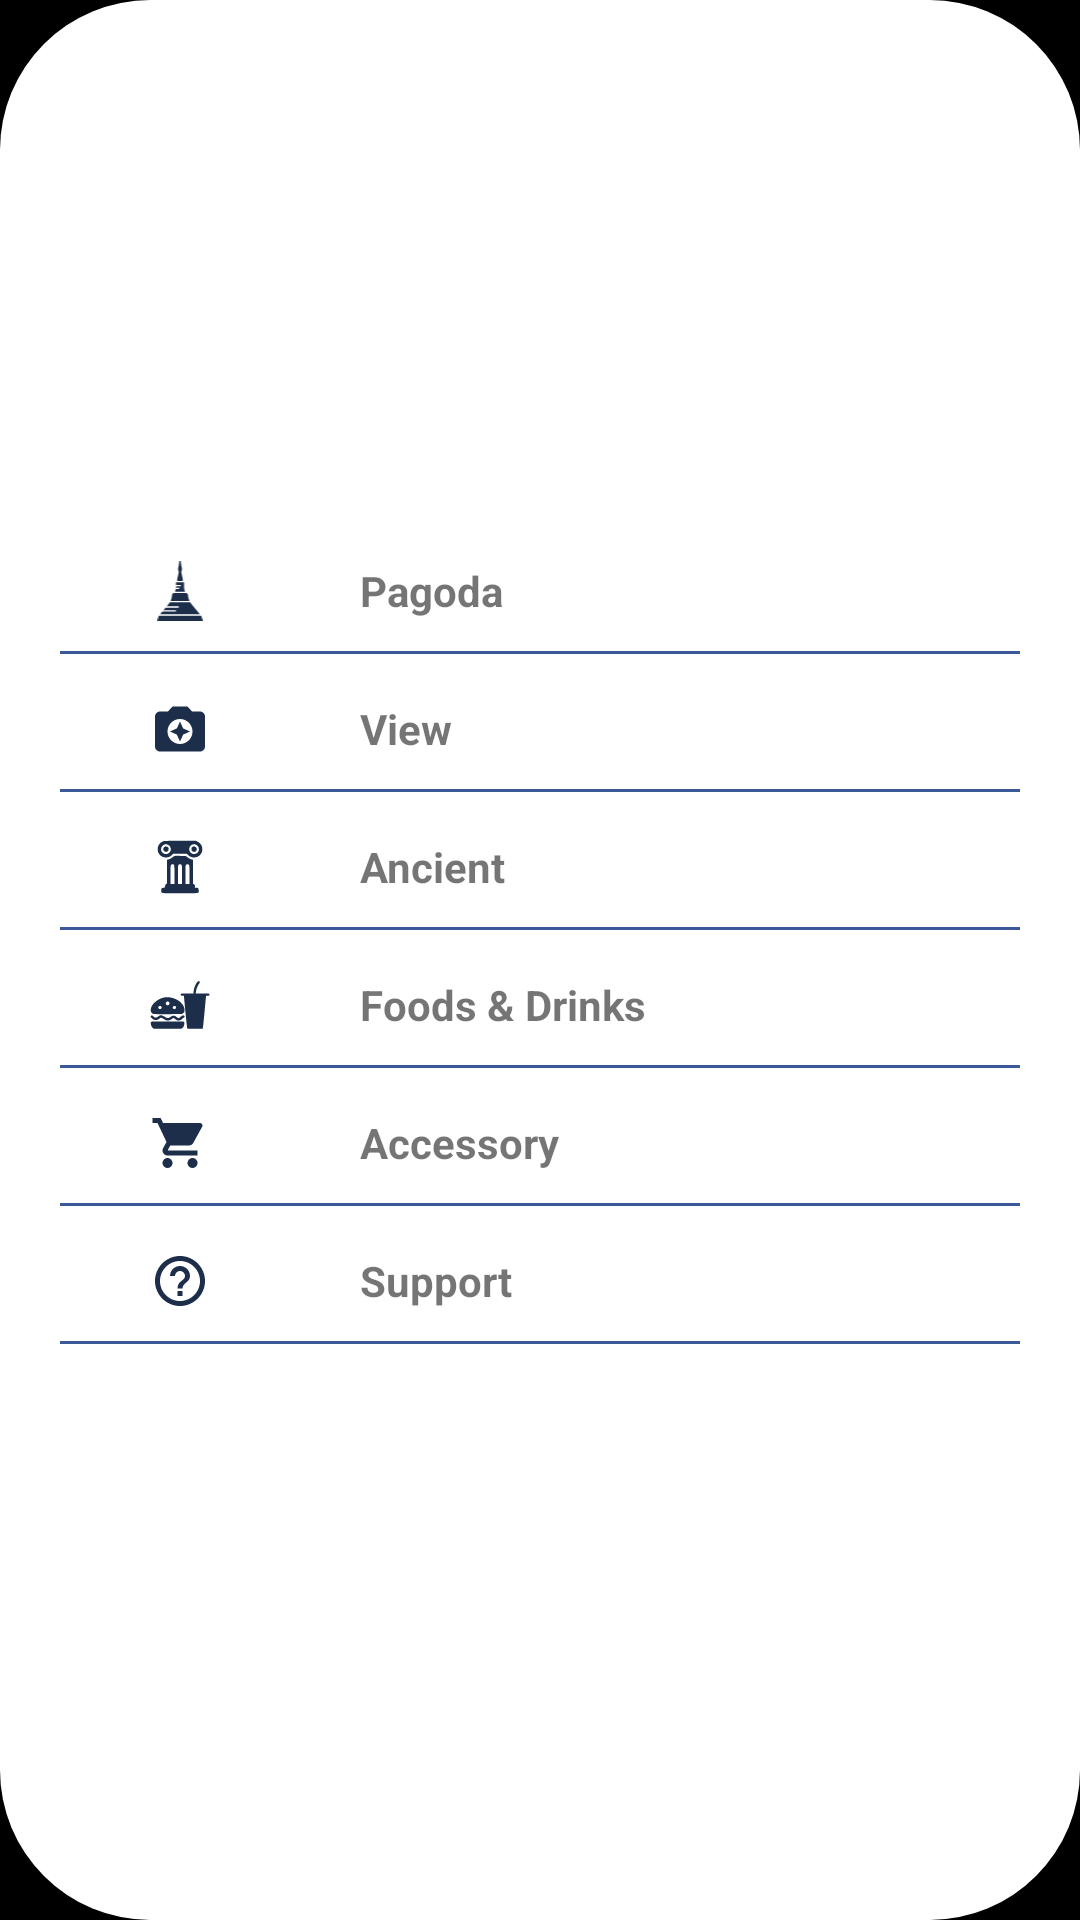

Screen size 1080×1920. Icon name, then its center in pixels as point (x, y):
food drink: point (180, 1005)
